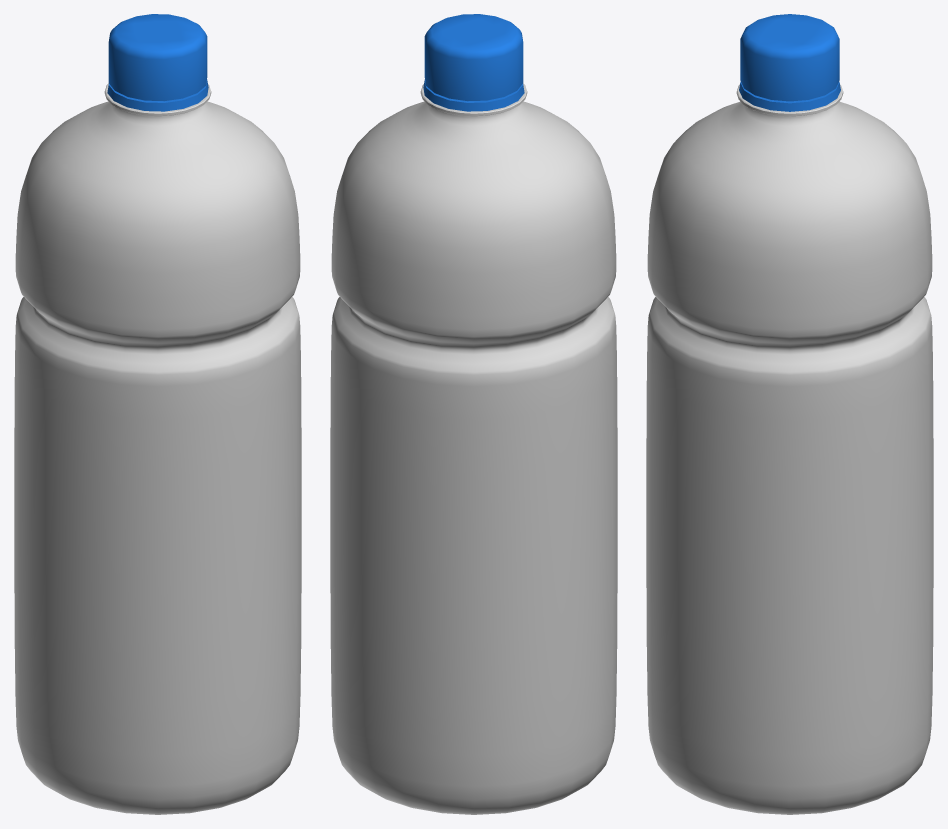
Rendered from Bottle_V2.fbx.
3 renders of one model, left to right at view 1: azimuth 30°, elevation 25°; view 2: azimuth 150°, elevation 25°; view 3: azimuth 270°, elevation 25°, orthographic.
Parts seen in each view (by area): view 1: Bottle_Body, Bottle_Cap; view 2: Bottle_Body, Bottle_Cap; view 3: Bottle_Body, Bottle_Cap.
Part boxes in pixels (box(x1,y1,x2,y2)): Bottle_Body: box(14, 83, 301, 814); Bottle_Cap: box(107, 14, 208, 111); Bottle_Body: box(330, 83, 617, 814); Bottle_Cap: box(423, 14, 524, 111); Bottle_Body: box(646, 84, 933, 814); Bottle_Cap: box(739, 14, 840, 111).
Size of the model in its own units: 168 by 478 by 168.
